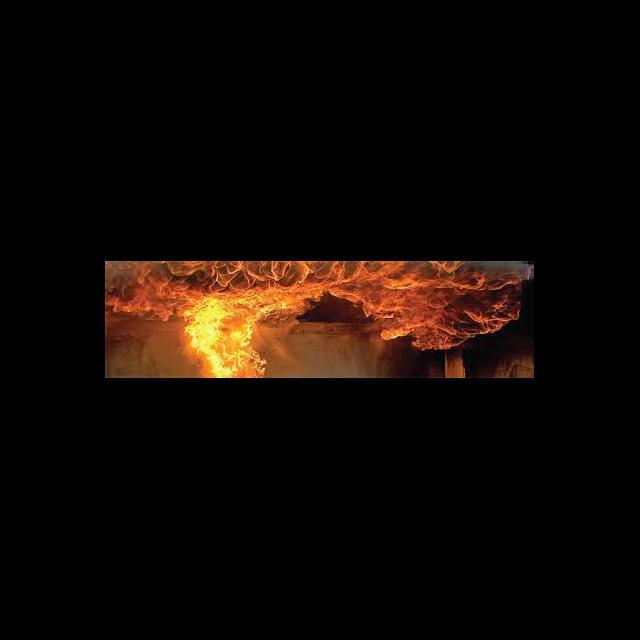Fire: (106, 262, 534, 378)
